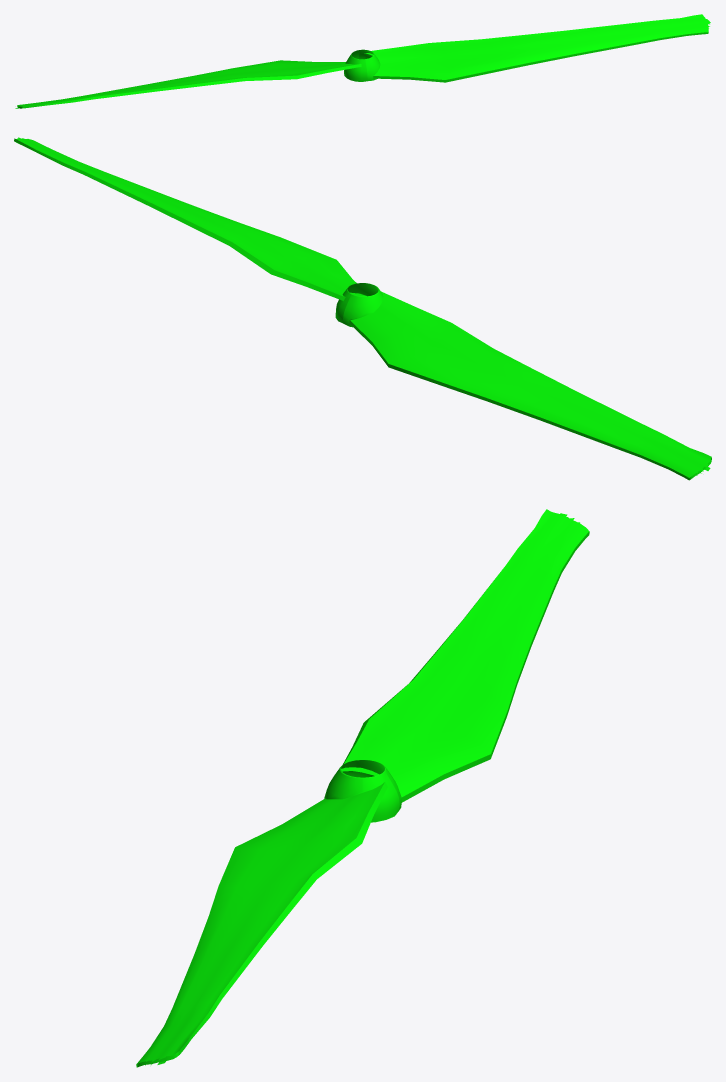
Rendered from propeller_grean.fbx.
3 renders of one model, top to bottom at view 1: azimuth 30°, elevation 25°; view 2: azimuth 150°, elevation 25°; view 3: azimuth 270°, elevation 25°, orthographic. The views are drawn at different scales.
Parts seen in each view (by area): view 1: polySurface8; view 2: polySurface8; view 3: polySurface8.
Part boxes in pixels (box(x1,y1,x2,y2)): polySurface8: box(15, 14, 710, 108); polySurface8: box(14, 137, 711, 480); polySurface8: box(136, 509, 589, 1067).
Bounding box in the file's own units: 17.81 × 0.746 × 5.89.
